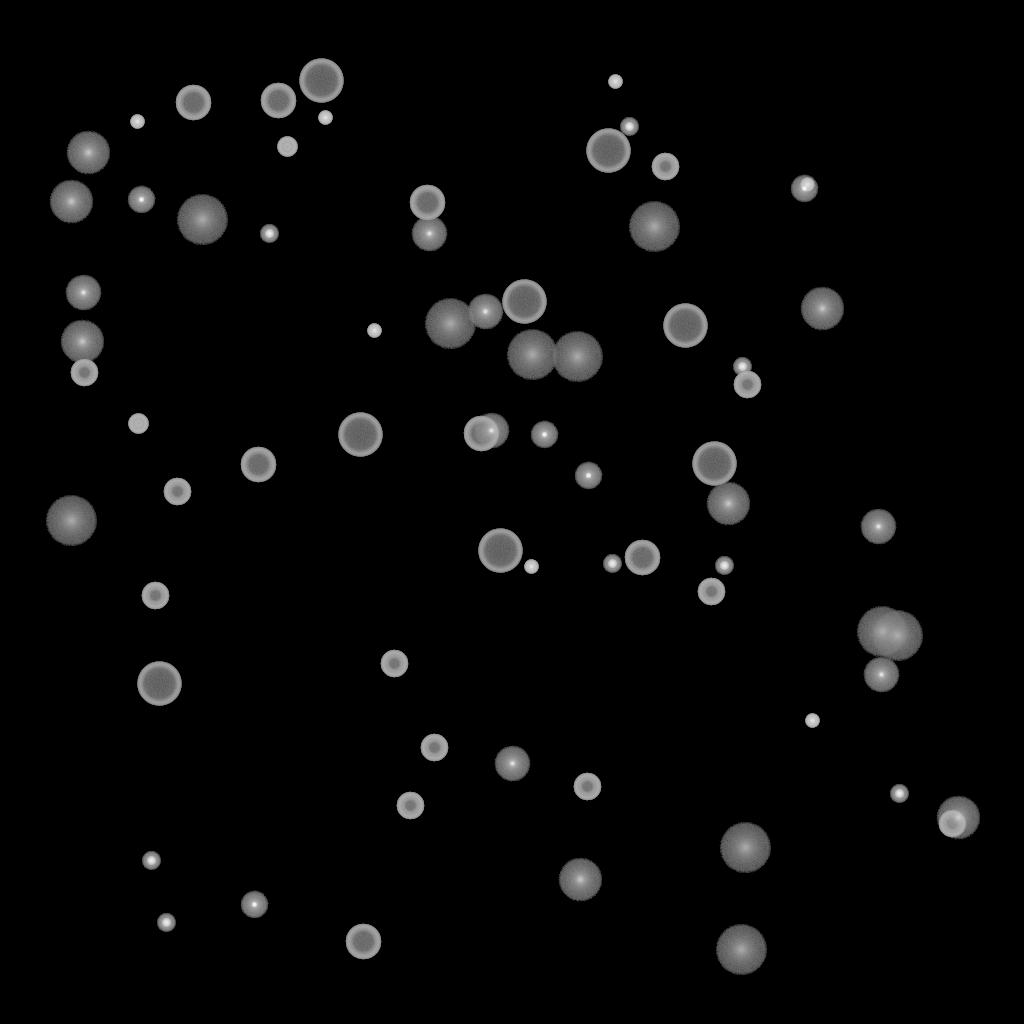depth:-10: (790, 175, 818, 203), (574, 462, 602, 490), (127, 186, 155, 214), (240, 891, 268, 919), (530, 421, 558, 449)
depth:-20: (157, 914, 175, 932), (603, 555, 621, 573), (890, 785, 908, 803), (260, 225, 278, 243), (142, 852, 160, 870), (715, 557, 733, 575), (733, 358, 751, 376), (620, 118, 638, 136)
depth:-30: (367, 324, 381, 338), (805, 714, 819, 728), (318, 111, 332, 125), (800, 178, 814, 192), (130, 115, 144, 129), (524, 560, 538, 574), (608, 75, 622, 89)
depth:-40: (277, 137, 297, 157), (128, 414, 148, 434)
depth:-50: (573, 773, 601, 801), (141, 582, 169, 610), (380, 650, 408, 678), (70, 359, 98, 387), (396, 792, 424, 820), (651, 153, 679, 181), (163, 478, 191, 506), (420, 734, 448, 762), (938, 810, 966, 838), (697, 578, 725, 606), (733, 371, 761, 399)
depth:-60: (624, 540, 660, 576), (345, 924, 381, 960), (463, 416, 499, 452), (240, 447, 276, 483), (260, 83, 296, 119), (175, 85, 211, 121), (409, 185, 445, 221)
depth:-70: (586, 129, 630, 173), (137, 662, 181, 706), (502, 280, 546, 324), (663, 304, 707, 348), (338, 413, 382, 457), (478, 529, 522, 573), (692, 442, 736, 486), (299, 59, 343, 103)
depth:0: (65, 275, 101, 311), (473, 413, 509, 449), (494, 746, 530, 782), (860, 509, 896, 545), (467, 294, 503, 330), (863, 657, 899, 693), (411, 216, 447, 252)
depth:10: (800, 287, 844, 331), (60, 320, 104, 364), (49, 180, 93, 224), (66, 131, 110, 175), (936, 796, 980, 840), (706, 482, 750, 526), (558, 858, 602, 902)
depth:20: (719, 823, 771, 873), (506, 330, 558, 380), (715, 925, 767, 975), (551, 332, 603, 382), (628, 202, 680, 252), (45, 496, 97, 546), (871, 611, 923, 661), (856, 607, 908, 657), (176, 195, 228, 245), (424, 299, 476, 349)
